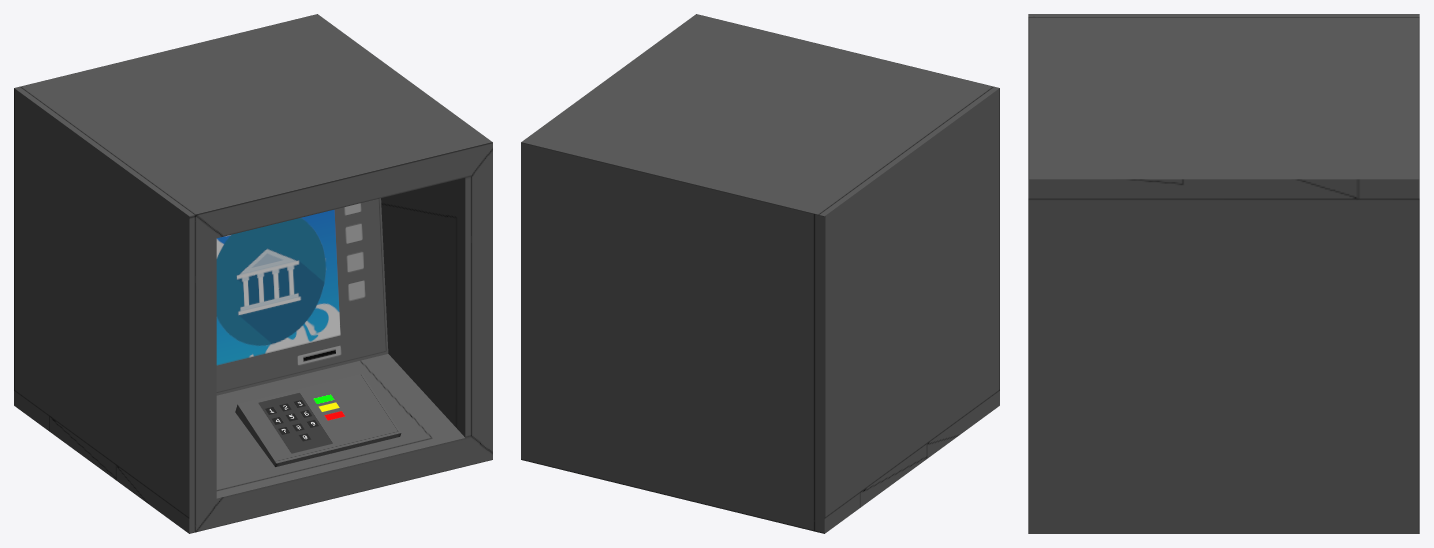
Rendered from atm.obj.
The picture shows the model from 3 angles, left to right: view 1: azimuth 30°, elevation 25°; view 2: azimuth 150°, elevation 25°; view 3: azimuth 270°, elevation 25°; orthographic projection. The views are drawn at different scales.
Parts seen in each view (by area): view 1: Cube_Cube.002; view 2: Cube_Cube.002; view 3: Cube_Cube.002.
Boxes of the visible parts, left/top/right/bottom form: Cube_Cube.002: left=14, top=14, right=492, bottom=533; Cube_Cube.002: left=521, top=14, right=999, bottom=533; Cube_Cube.002: left=1028, top=14, right=1419, bottom=533.
Size of the model in its own units: 1 by 1 by 1.
